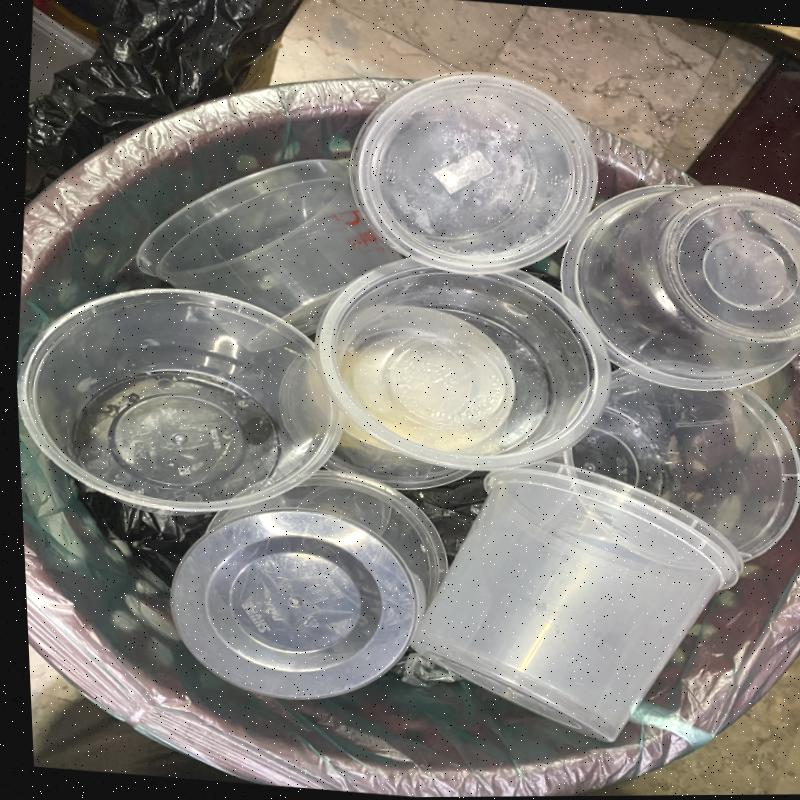plastic container: (410, 462, 744, 744), (19, 289, 342, 512), (168, 473, 448, 703), (314, 259, 612, 472), (559, 185, 800, 393), (352, 75, 601, 276), (135, 159, 406, 340), (563, 369, 800, 563), (192, 306, 293, 353)
